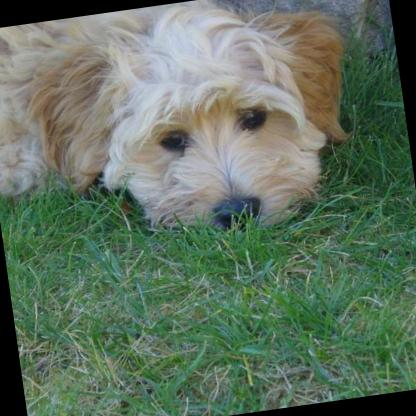miniature_poodle: (0, 0, 373, 266)
